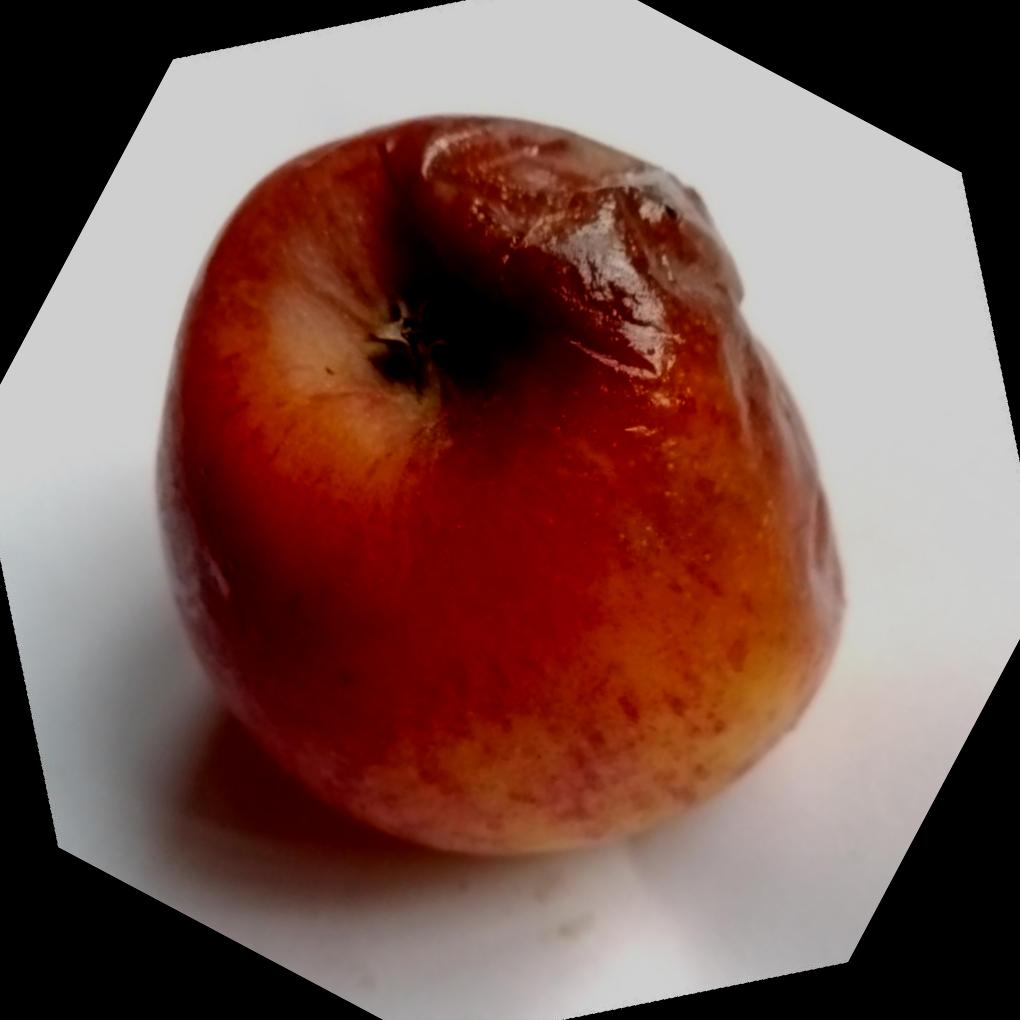FreshOrange: (151, 113, 842, 863)
